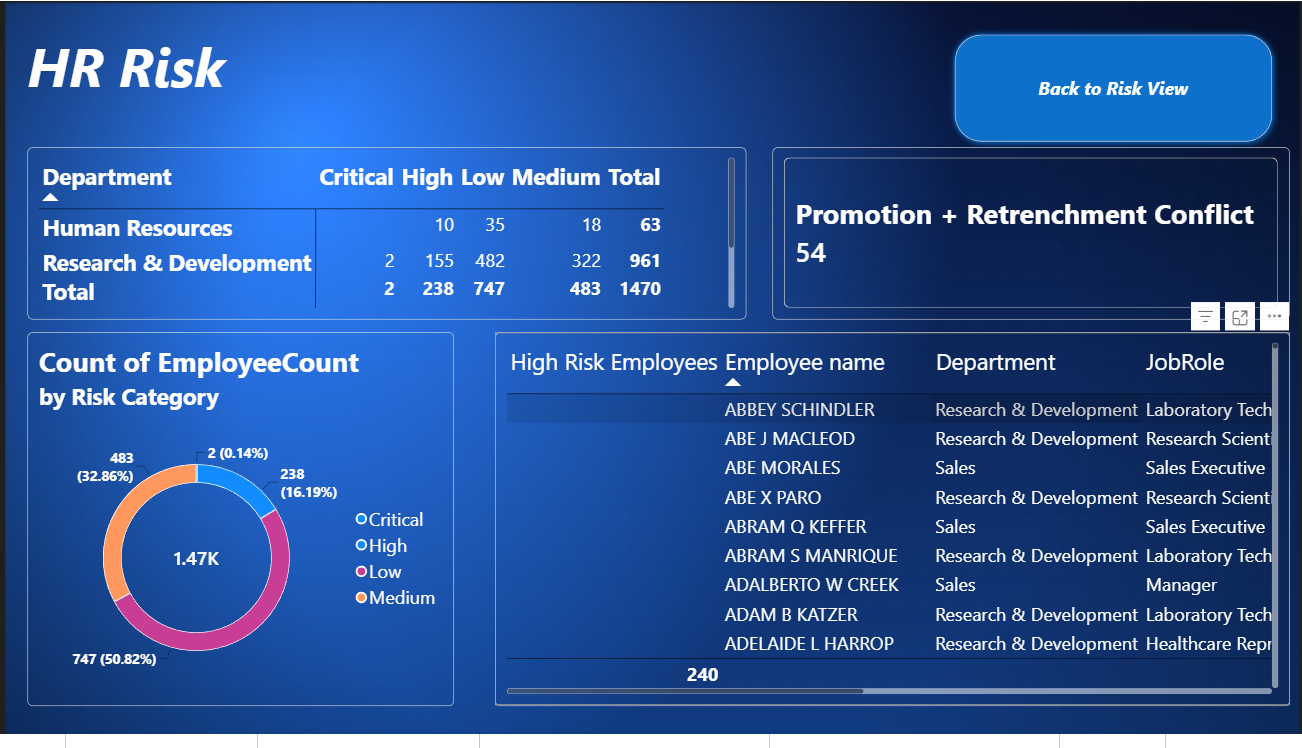

The dashboard page shown, as its layout file describes it:
{"tool":"powerbi","page":{"name":"HR RISK","canvas":[1920,1080],"ordinal":5},"visuals":[{"type":"donutChart","fields":{"Series":["HR.Risk Category"],"Y":["CountNonNull(HR.EmployeeCount)"]},"box":[40.5,487.7,627.6,550.3],"z":0},{"type":"pivotTable","fields":{"Columns":["HR.Risk Category"],"Rows":["HR.Department"],"Values":["CountNonNull(HR.EmployeeCount)"]},"box":[40.5,215.3,1058.3,254],"z":1000},{"type":"tableEx","fields":{"Values":["KPICalculations.High Risk Employees","Employees.Employee name","HR.Department","HR.JobRole","HR.Risk Category","Employees.Promotion Flag","Employees.Retrenchment Flag","Sum(HR.Employee Risk Score)"]},"box":[728.8,487.7,1170.6,550.3],"z":2000},{"type":"cardVisual","fields":{"Data":["KPICalculations.Promotion + Retrenchment Conflict"]},"box":[1137.4,215.3,762,254],"z":3000},{"type":"actionButton","box":[1397.1,39.8,485,175.5],"z":4000},{"type":"textbox","box":[40.5,40.5,508,174.8],"z":4001}]}

Visuals, with their boxes in screenshot pixels (x1, y1, x2, y2), scaled from the page's 1920x1080 canvas onto the 1302x748 screenshot:
donutChart - HR.Risk Category x CountNonNull(HR.EmployeeCount): [left=27, top=338, right=453, bottom=719]
pivotTable - HR.Risk Category x HR.Department: [left=27, top=149, right=745, bottom=325]
tableEx - KPICalculations.High Risk Employees x Employees.Employee name: [left=494, top=338, right=1288, bottom=719]
cardVisual - KPICalculations.Promotion + Retrenchment Conflict: [left=771, top=149, right=1288, bottom=325]
actionButton: [left=947, top=28, right=1276, bottom=149]
textbox: [left=27, top=28, right=372, bottom=149]
